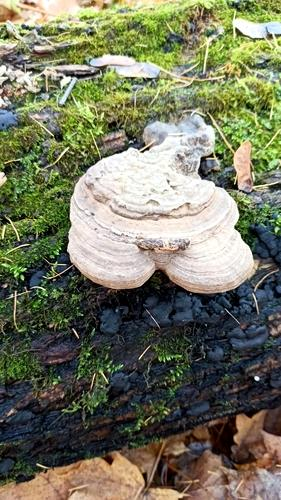Ganoderma - Fruit Body: (62, 128, 257, 293)
